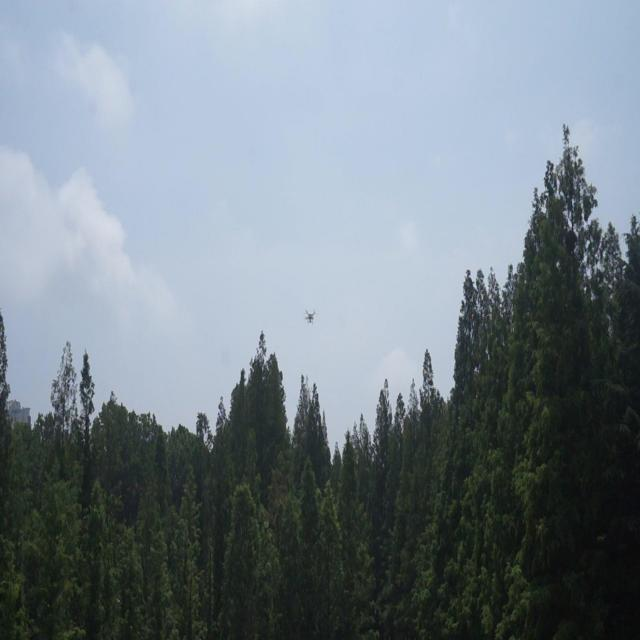UAV: (302, 308, 318, 324)
